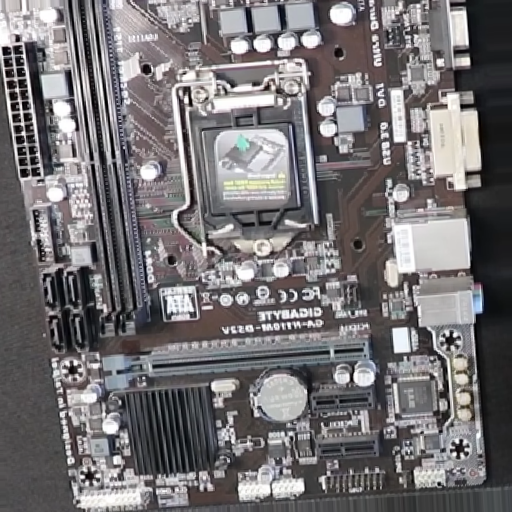CPU: (180, 58, 321, 256)
GPU: (150, 336, 374, 376)
MOTHERBOARD: (2, 1, 489, 508)
RAM: (62, 1, 152, 338)
